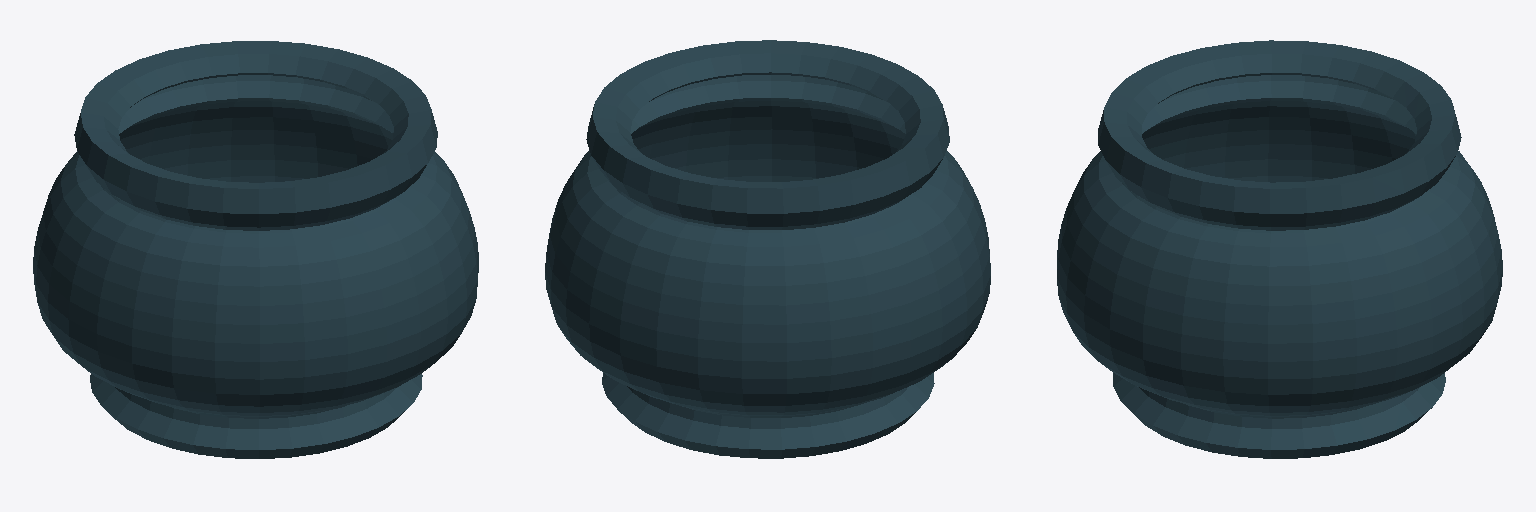
Rendered from Fish_In_Bowl_V2.obj.
3 renders of one model, left to right at view 1: azimuth 30°, elevation 25°; view 2: azimuth 150°, elevation 25°; view 3: azimuth 270°, elevation 25°, orthographic.
Visible parts, largest first — view 1: FishBowl; view 2: FishBowl; view 3: FishBowl.
Part boxes in pixels (left/top/right/bottom): FishBowl: left=33, top=41, right=478, bottom=458; FishBowl: left=545, top=40, right=990, bottom=458; FishBowl: left=1057, top=40, right=1502, bottom=458.
Size of the model in its own units: 31.46 by 21.95 by 31.42.